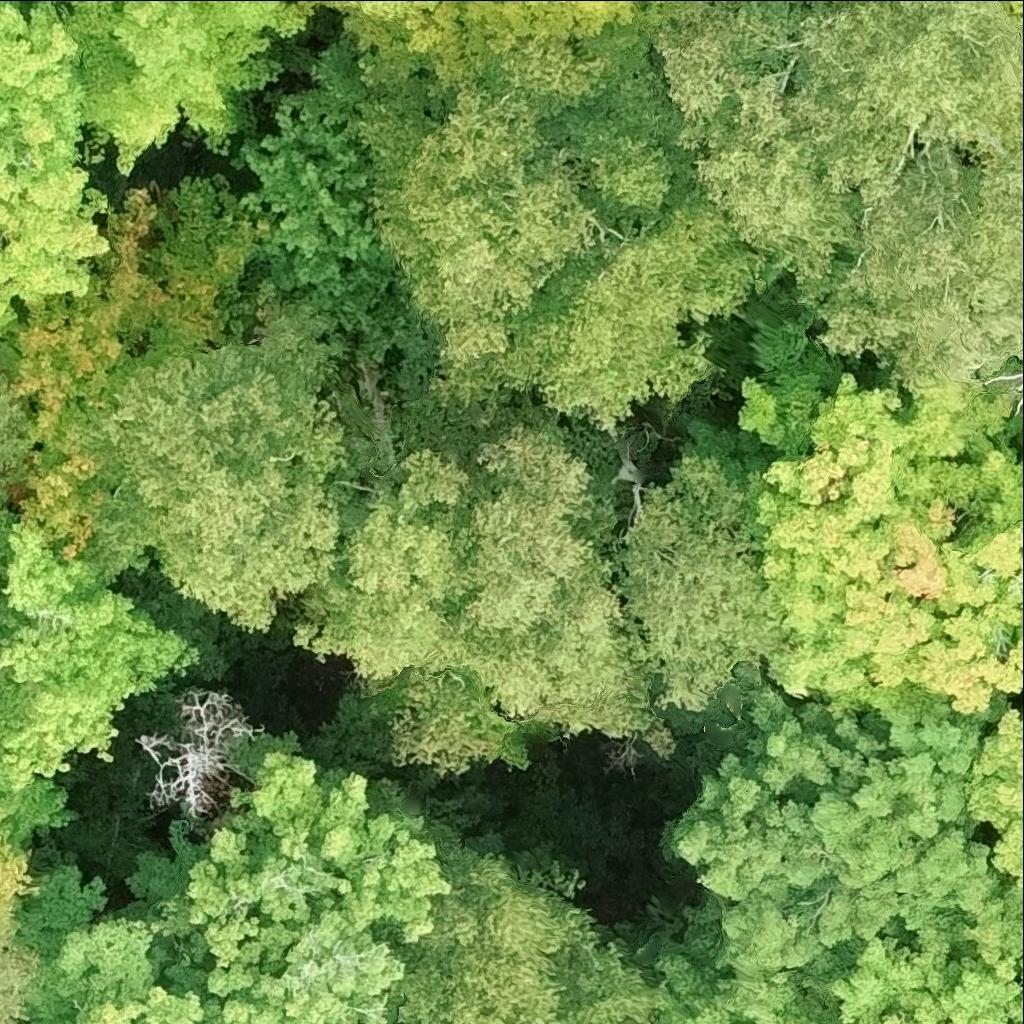crown: (308, 3, 778, 441), (657, 0, 1023, 322), (740, 354, 1023, 744), (670, 687, 1023, 978), (120, 727, 458, 1002), (296, 401, 531, 774), (0, 192, 217, 591), (103, 331, 346, 629), (465, 408, 673, 753), (0, 524, 185, 788), (821, 143, 1023, 379), (649, 898, 1023, 1023), (393, 855, 665, 1023), (622, 455, 796, 709), (70, 0, 306, 171), (237, 88, 392, 328), (0, 0, 112, 332), (15, 863, 205, 1023), (199, 906, 405, 1023), (137, 177, 260, 349), (136, 687, 262, 818), (968, 709, 1023, 886), (0, 374, 34, 506), (0, 940, 41, 1023), (355, 0, 440, 17), (996, 0, 1023, 48), (984, 374, 1023, 386), (391, 1006, 404, 1023), (1017, 381, 1023, 389)
